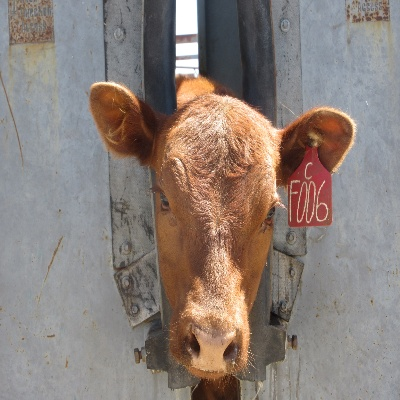fidget_spinner: (182, 316, 240, 371)
